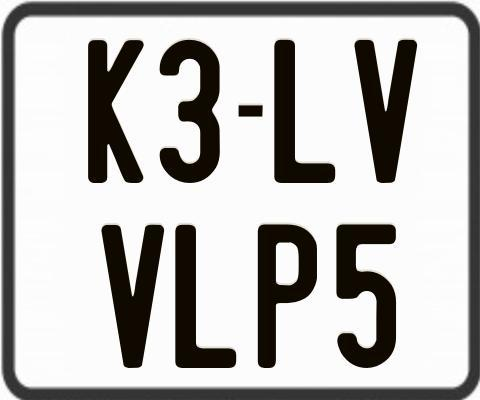3: (157, 38, 218, 184)
5: (336, 223, 397, 368)
K: (86, 38, 145, 186)
L: (274, 39, 338, 185), (173, 225, 235, 369)
P: (255, 222, 320, 368)
V: (101, 222, 166, 371), (355, 39, 419, 187)
